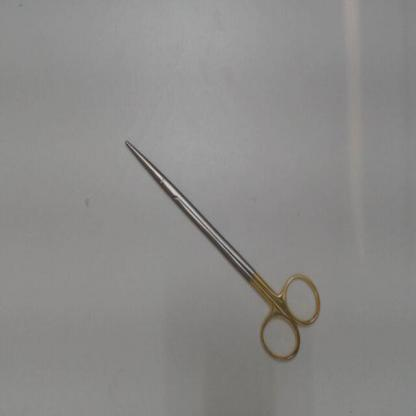7 Metzenbaum Scissors: (122, 135, 326, 368)
